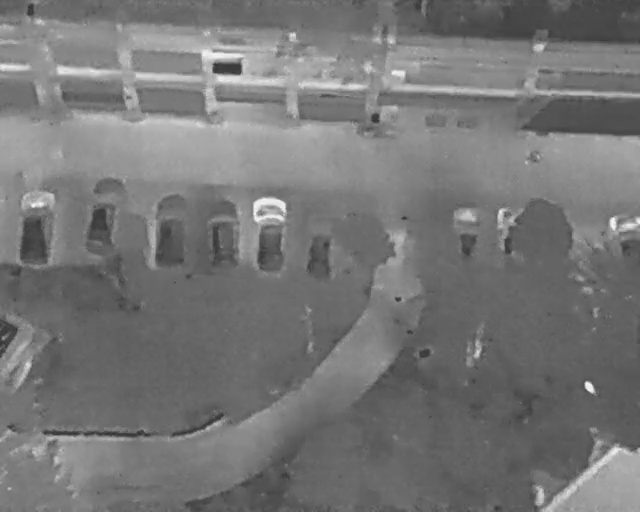Car: (80, 174, 130, 256), (15, 188, 59, 265), (150, 191, 192, 270), (251, 193, 290, 274), (300, 211, 343, 283), (203, 195, 243, 269), (450, 202, 484, 262), (495, 204, 525, 263)
Person: (608, 209, 639, 281), (526, 149, 542, 165)
